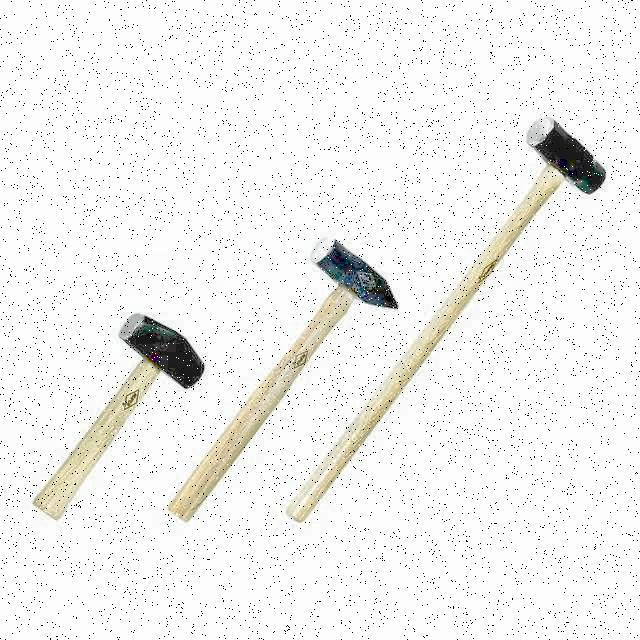hammer: (288, 117, 610, 527), (169, 238, 395, 520), (27, 308, 207, 520)
